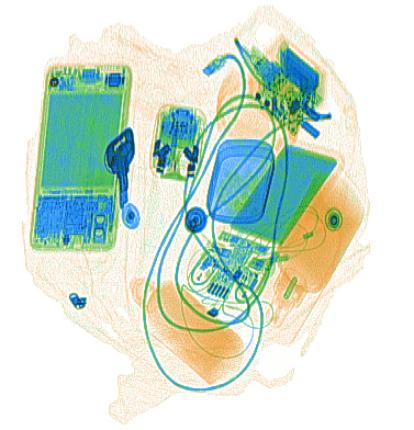plasticBottleWithaNozzle: (267, 166, 366, 330)
